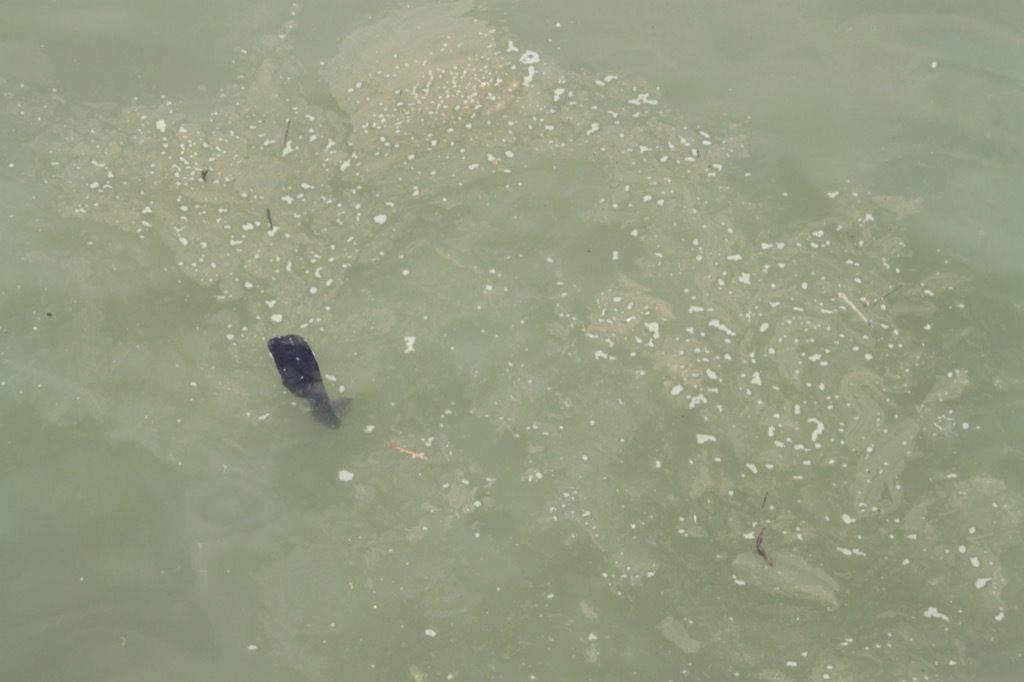organic: (273, 115, 301, 158), (750, 520, 773, 570), (253, 196, 281, 236), (754, 480, 783, 510), (196, 163, 216, 186), (41, 303, 57, 325)
plastic: (244, 313, 369, 442)
